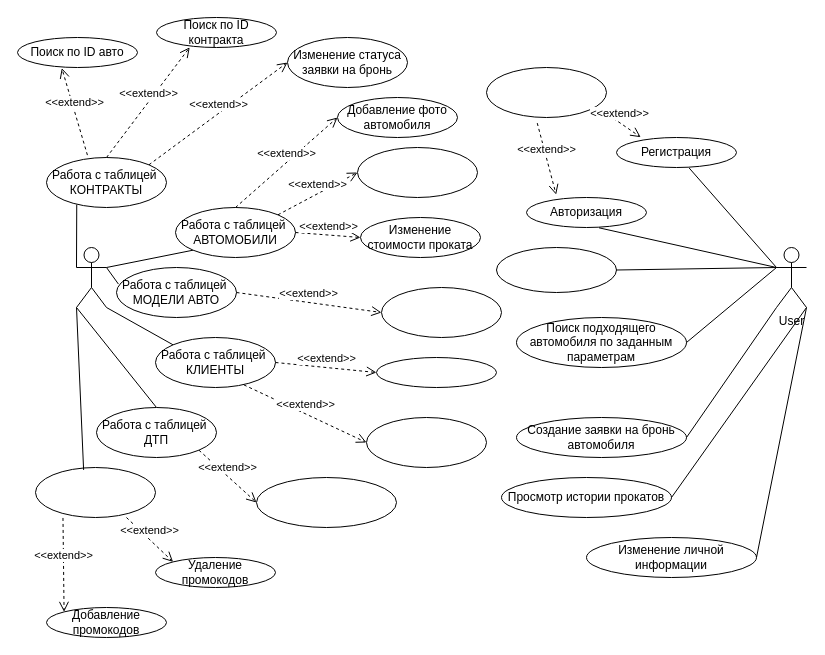
Image size: 825x655. Some labels were removed from this diagram. The centre of each missing label's shape, as x and y in pixels:
Admin: the point at 91,277
Валидация введенных данных: the point at 546,92
Поиск по ID клиента: the point at 436,372
Поиск по ID модели: the point at 417,172
Получение всех ДТП по ID клиента: the point at 326,502
Просмотр автопарка: the point at 556,269
Просмотр информации о клиентах: the point at 426,442
Просмотр информации о моделях авто: the point at 441,312
Работа с таблицей ПРОМОКОДЫ: the point at 95,492
